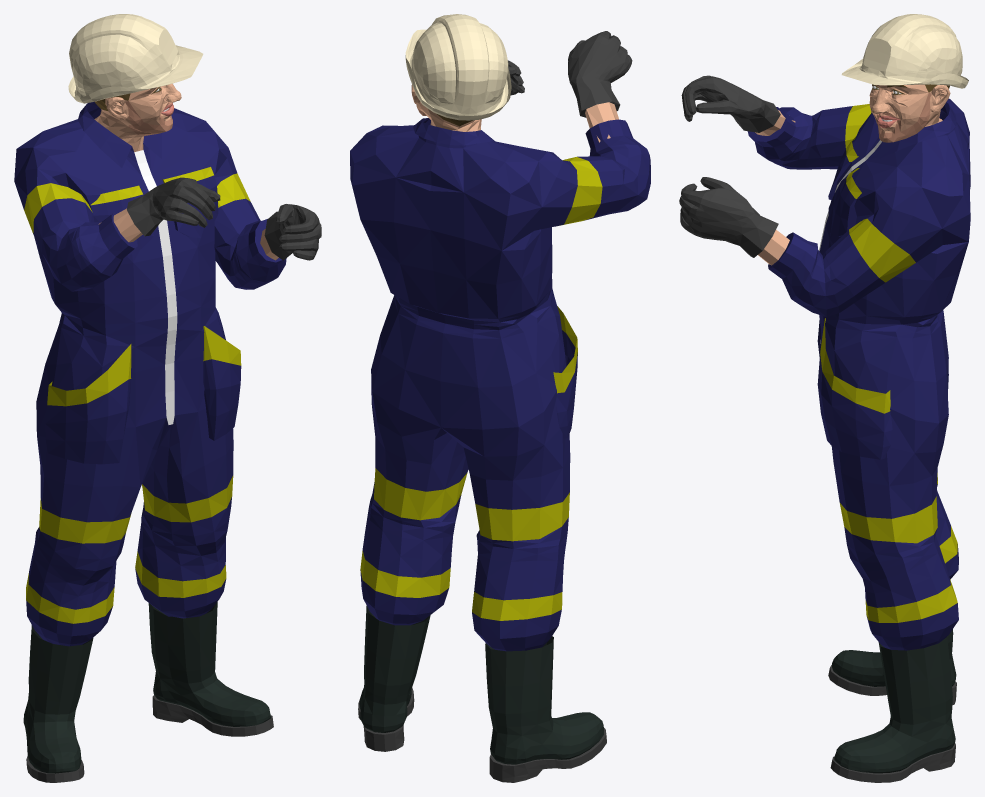
Rendered from Worker_003.fbx.
The picture shows the model from 3 angles, left to right: view 1: azimuth 30°, elevation 25°; view 2: azimuth 150°, elevation 25°; view 3: azimuth 270°, elevation 25°; orthographic projection. The views are drawn at different scales.
Parts seen in each view (by area): view 1: SKP_X3GPL_COL_MAT_69e6cb1e\, SKP_SKP_*14_a50ac9d1_69e6cb1e\, SKP_X3GPL_COL_MAT2_69e6cb1e\, SKP_SKP_SKP__67627a60_69e6cb1e\, SKP_X3GPL_COL_MAT1_69e6cb1e\, SKP_SKP_*4_a50ac9d1_69e6cb1e\, SKP_Global_69e6cb1e\, SKP_SKP_*10_a50ac9d1_69e6cb1e\; view 2: SKP_X3GPL_COL_MAT_69e6cb1e\, SKP_SKP_*14_a50ac9d1_69e6cb1e\, SKP_X3GPL_COL_MAT2_69e6cb1e\, SKP_SKP_SKP__67627a60_69e6cb1e\, SKP_X3GPL_COL_MAT1_69e6cb1e\, SKP_SKP_*4_a50ac9d1_69e6cb1e\; view 3: SKP_X3GPL_COL_MAT_69e6cb1e\, SKP_SKP_*14_a50ac9d1_69e6cb1e\, SKP_X3GPL_COL_MAT1_69e6cb1e\, SKP_X3GPL_COL_MAT2_69e6cb1e\, SKP_SKP_SKP__67627a60_69e6cb1e\, SKP_SKP_*4_a50ac9d1_69e6cb1e\, SKP_SKP_*10_a50ac9d1_69e6cb1e\.
Boxes of the visible parts, left/top/right/bottom form: SKP_X3GPL_COL_MAT_69e6cb1e\: left=14, top=102, right=286, bottom=646; SKP_SKP_*14_a50ac9d1_69e6cb1e\: left=23, top=602, right=270, bottom=773; SKP_X3GPL_COL_MAT2_69e6cb1e\: left=24, top=167, right=250, bottom=623; SKP_SKP_SKP__67627a60_69e6cb1e\: left=68, top=14, right=203, bottom=103; SKP_X3GPL_COL_MAT1_69e6cb1e\: left=26, top=177, right=321, bottom=782; SKP_SKP_*4_a50ac9d1_69e6cb1e\: left=94, top=83, right=278, bottom=260; SKP_Global_69e6cb1e\: left=134, top=88, right=177, bottom=424; SKP_SKP_*10_a50ac9d1_69e6cb1e\: left=125, top=101, right=172, bottom=135; SKP_X3GPL_COL_MAT_69e6cb1e\: left=350, top=118, right=650, bottom=651; SKP_SKP_*14_a50ac9d1_69e6cb1e\: left=359, top=605, right=603, bottom=764; SKP_X3GPL_COL_MAT2_69e6cb1e\: left=360, top=157, right=602, bottom=620; SKP_SKP_SKP__67627a60_69e6cb1e\: left=405, top=14, right=511, bottom=120; SKP_X3GPL_COL_MAT1_69e6cb1e\: left=358, top=31, right=632, bottom=782; SKP_SKP_*4_a50ac9d1_69e6cb1e\: left=411, top=85, right=618, bottom=142; SKP_X3GPL_COL_MAT_69e6cb1e\: left=747, top=98, right=970, bottom=650; SKP_SKP_*14_a50ac9d1_69e6cb1e\: left=831, top=629, right=956, bottom=773; SKP_X3GPL_COL_MAT1_69e6cb1e\: left=679, top=75, right=956, bottom=782; SKP_X3GPL_COL_MAT2_69e6cb1e\: left=820, top=104, right=957, bottom=622; SKP_SKP_SKP__67627a60_69e6cb1e\: left=841, top=14, right=968, bottom=88; SKP_SKP_*4_a50ac9d1_69e6cb1e\: left=755, top=84, right=950, bottom=265; SKP_SKP_*10_a50ac9d1_69e6cb1e\: left=873, top=93, right=931, bottom=142.
Bounding box in the file's own units: 643 × 675 × 1826.
